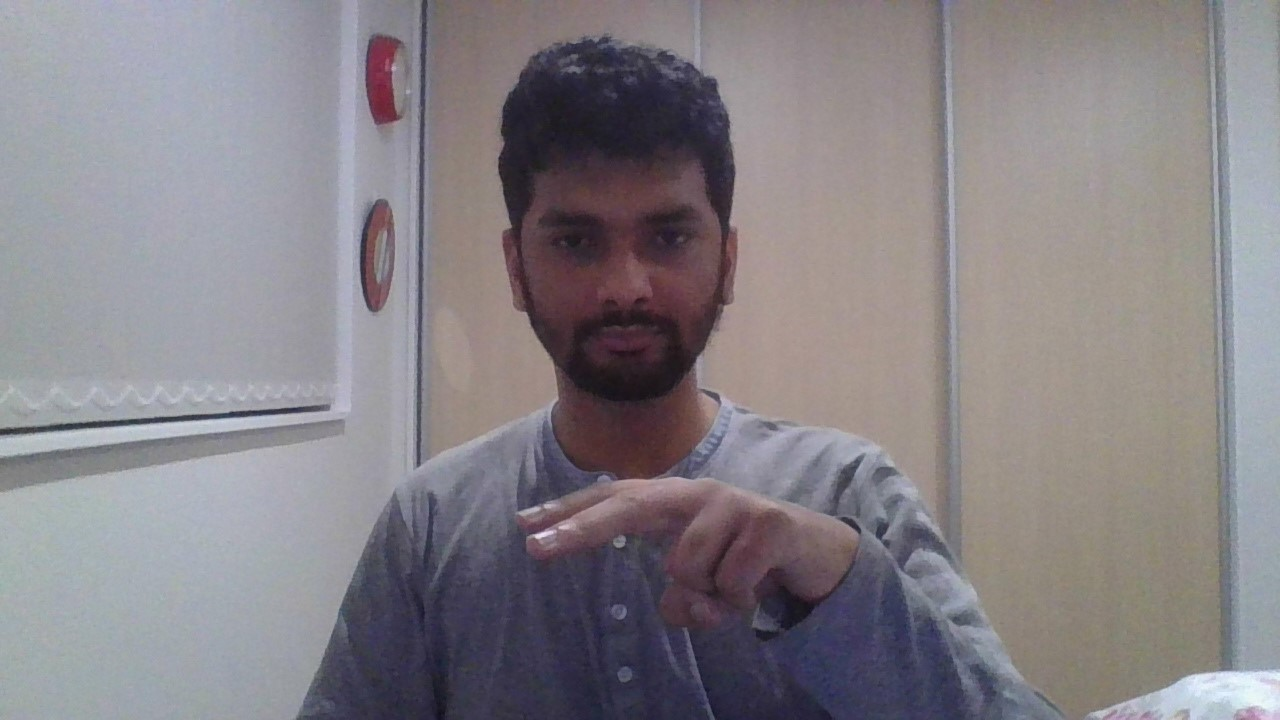look_around: (514, 476, 858, 629)
